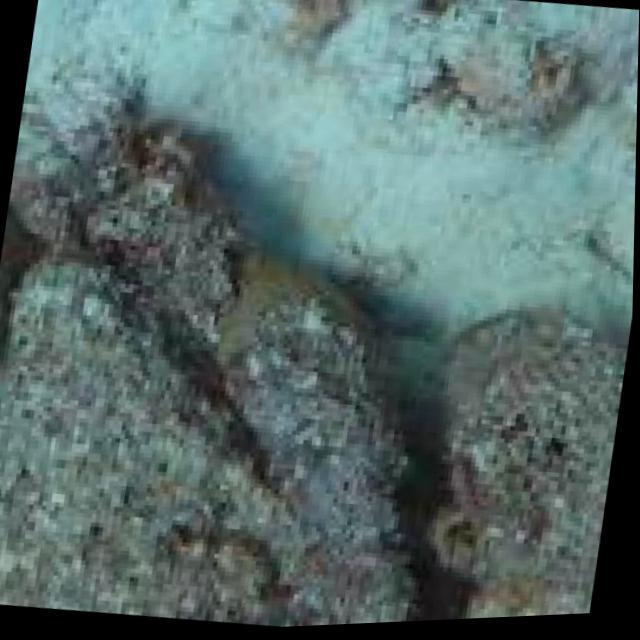Dead Coral: (0, 106, 638, 640)
